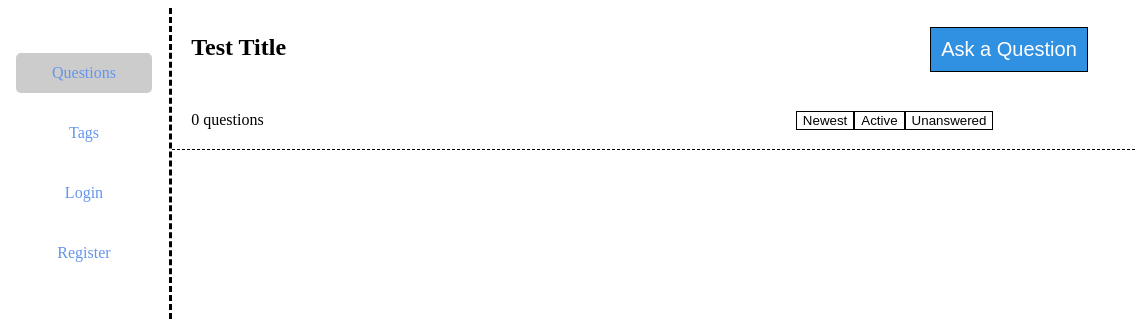
Main Component › displays LoginPage when Login button is clicked
Click the text with id "menu_login": (84, 193) [65, 184, 103, 201]
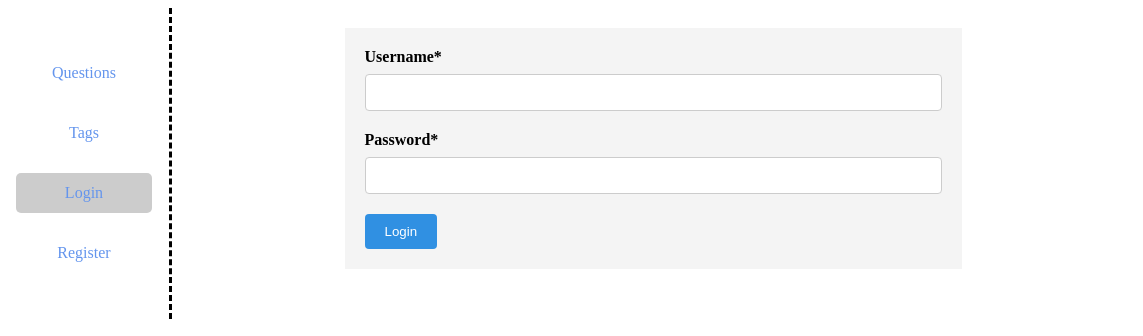
Now the button "Login" is shown, box [364, 214, 437, 249]
